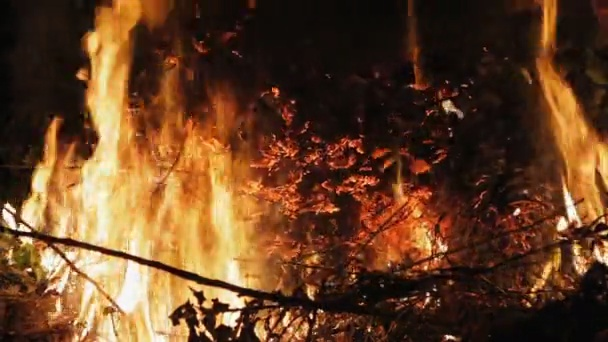fire: (1, 1, 254, 342), (536, 1, 608, 227), (394, 188, 441, 269), (573, 242, 585, 274), (597, 241, 608, 263)
